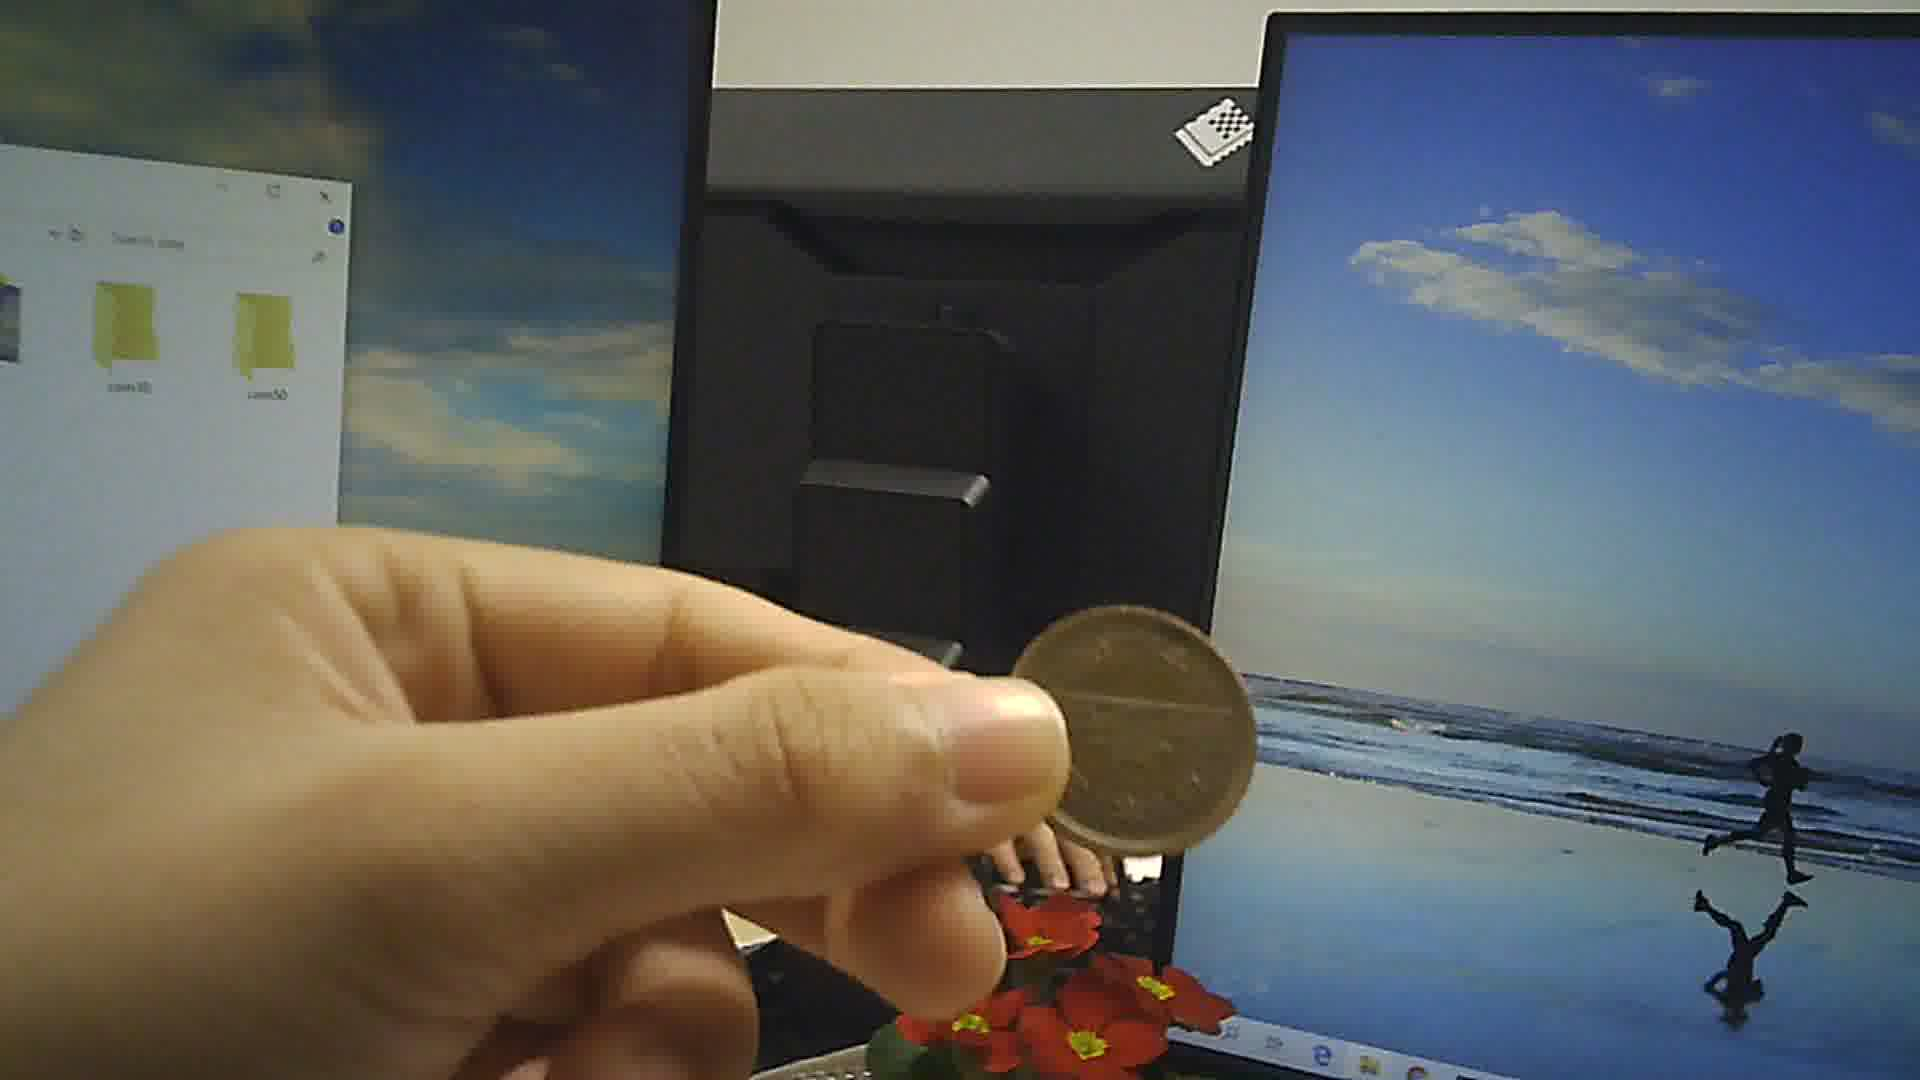10 Yen: (1002, 604, 1267, 862)
